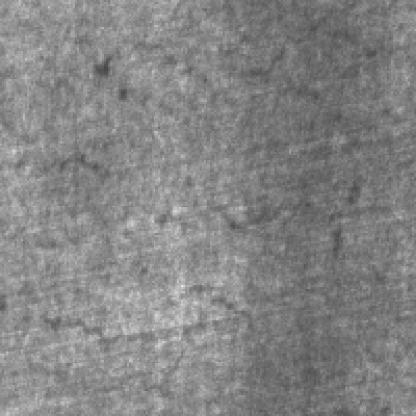crazing: (42, 200, 346, 354), (92, 25, 360, 116)
